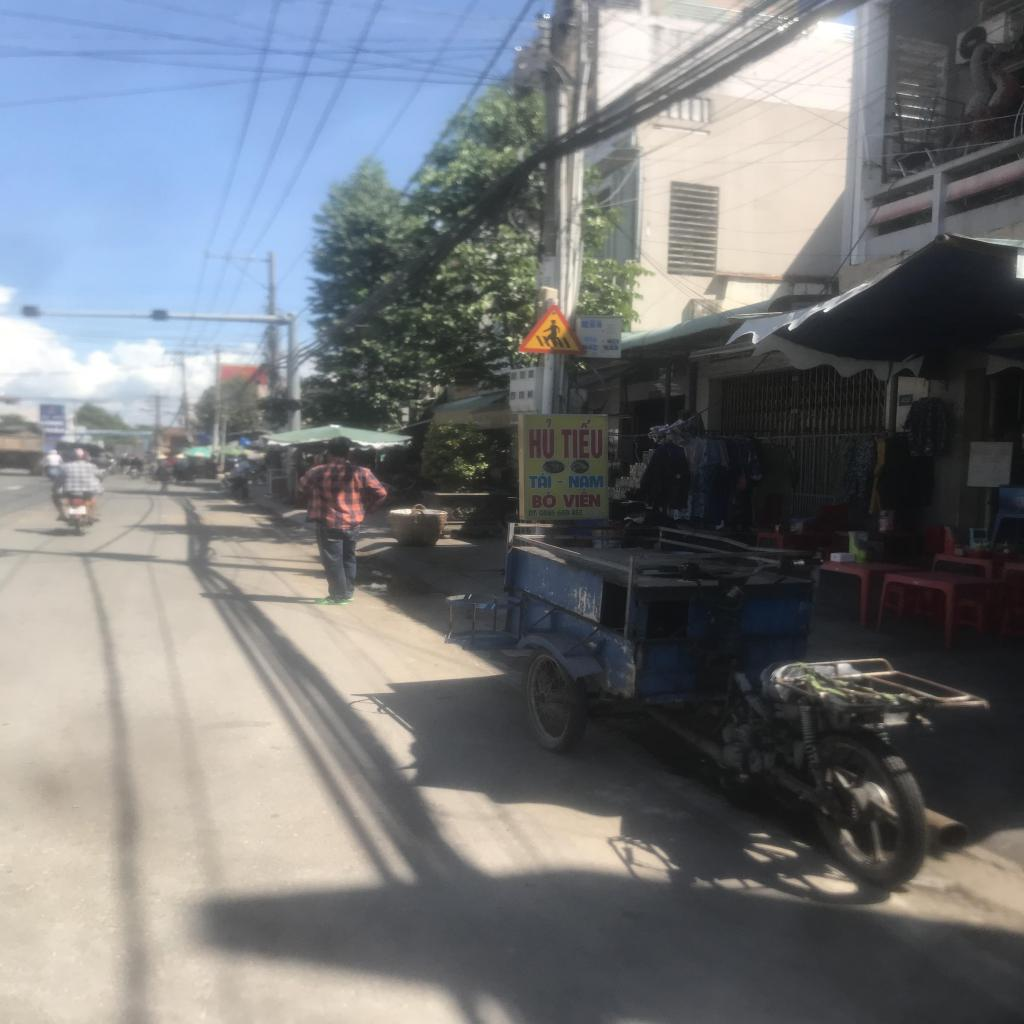chu_y_nguoi_di_bo_cat_ngang: (516, 304, 590, 354)
